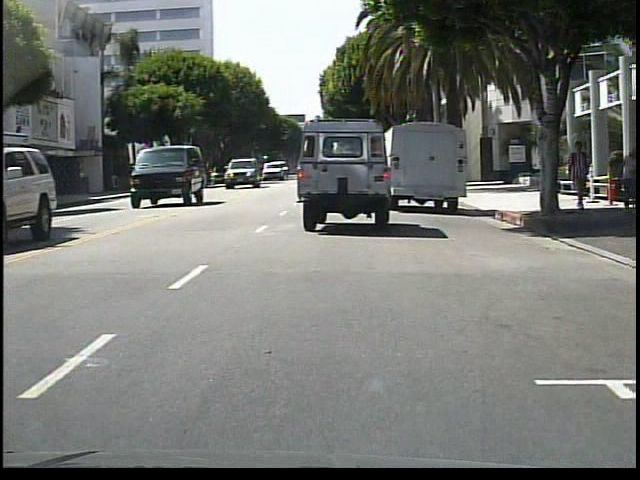person: (569, 138, 594, 213), (618, 147, 636, 215)
